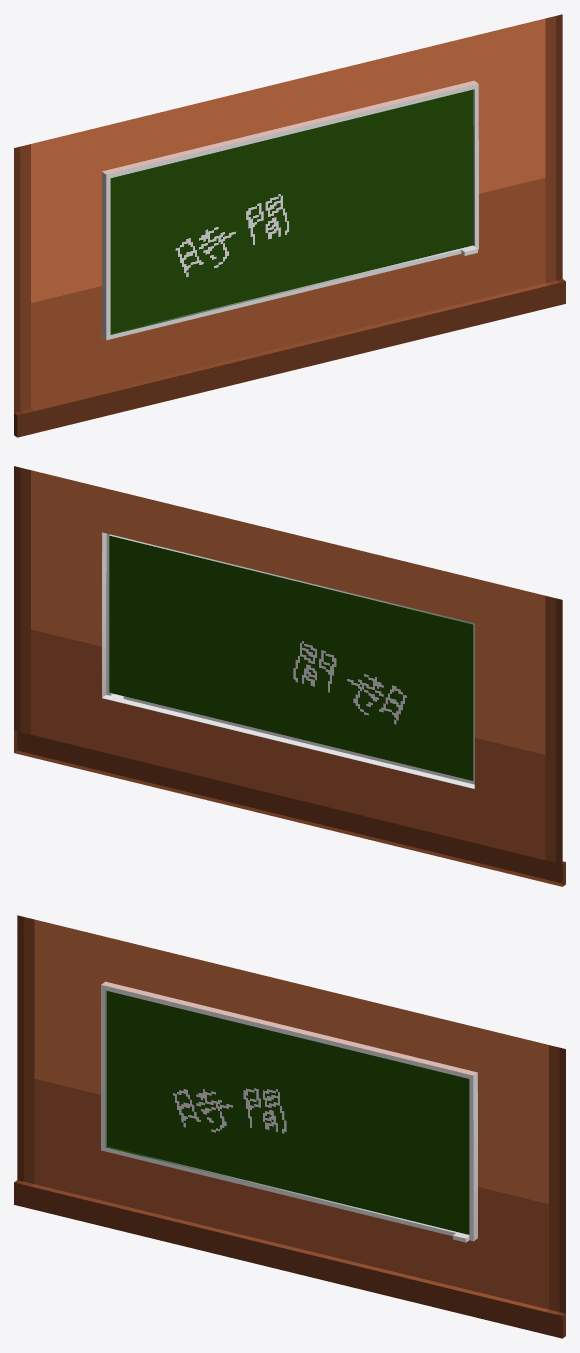
Rendered from wall-board.fbx.
3 views of the same model, one above another, from view 1: azimuth 30°, elevation 25°; view 2: azimuth 150°, elevation 25°; view 3: azimuth 330°, elevation 25° (orthographic).
Parts seen in each view (by area): view 1: Plane; view 2: Plane; view 3: Plane.
Part boxes in pixels (x1,y1,x2,y2): Plane: (14,14,565,437); Plane: (14,466,565,886); Plane: (14,915,565,1338).
Size of the model in its own units: 1536 by 768 by 36.79.
Materials: 1 (1 with a texture image).
